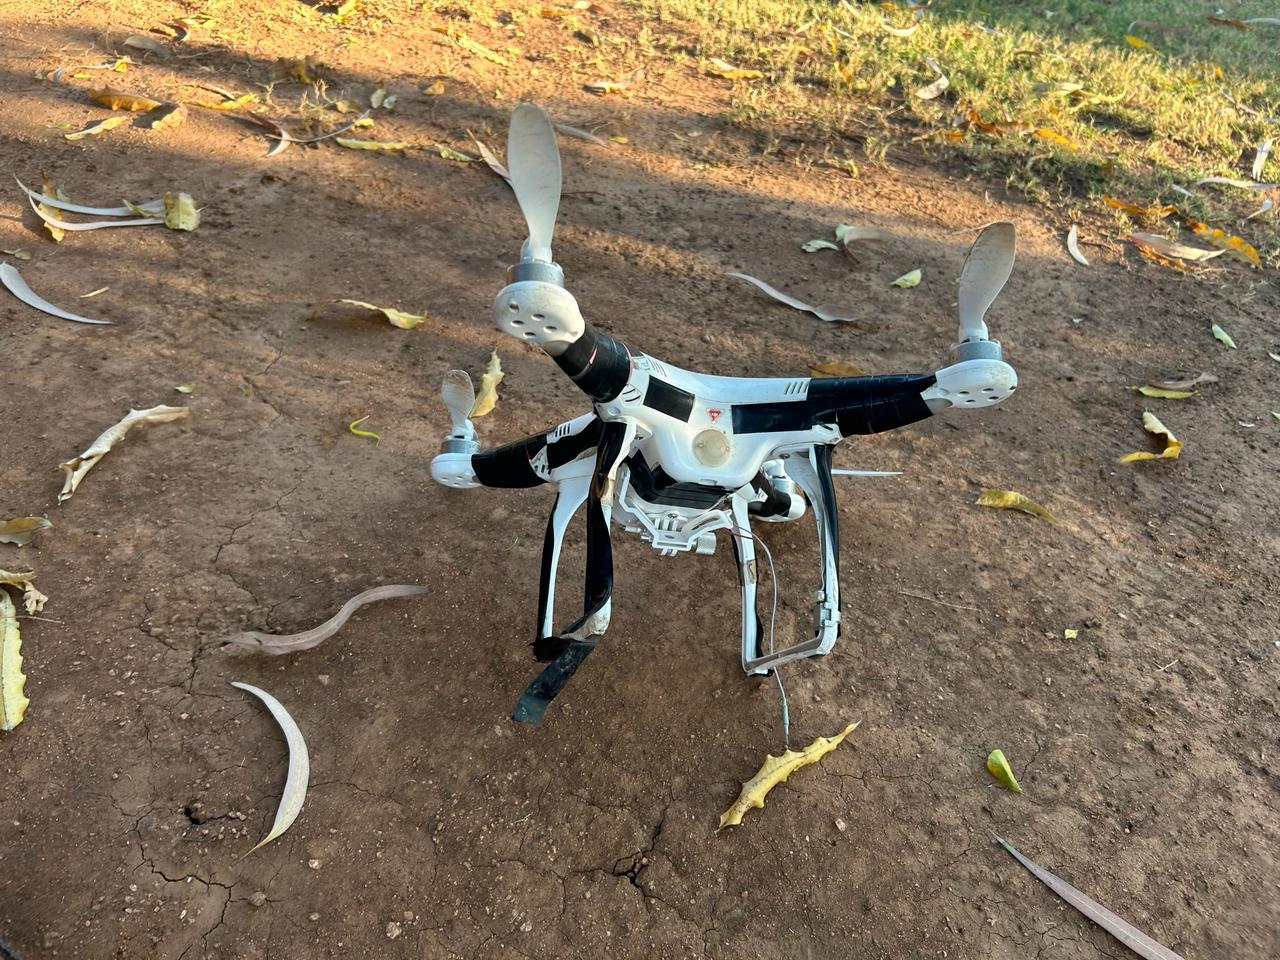drone: (404, 134, 1094, 782)
